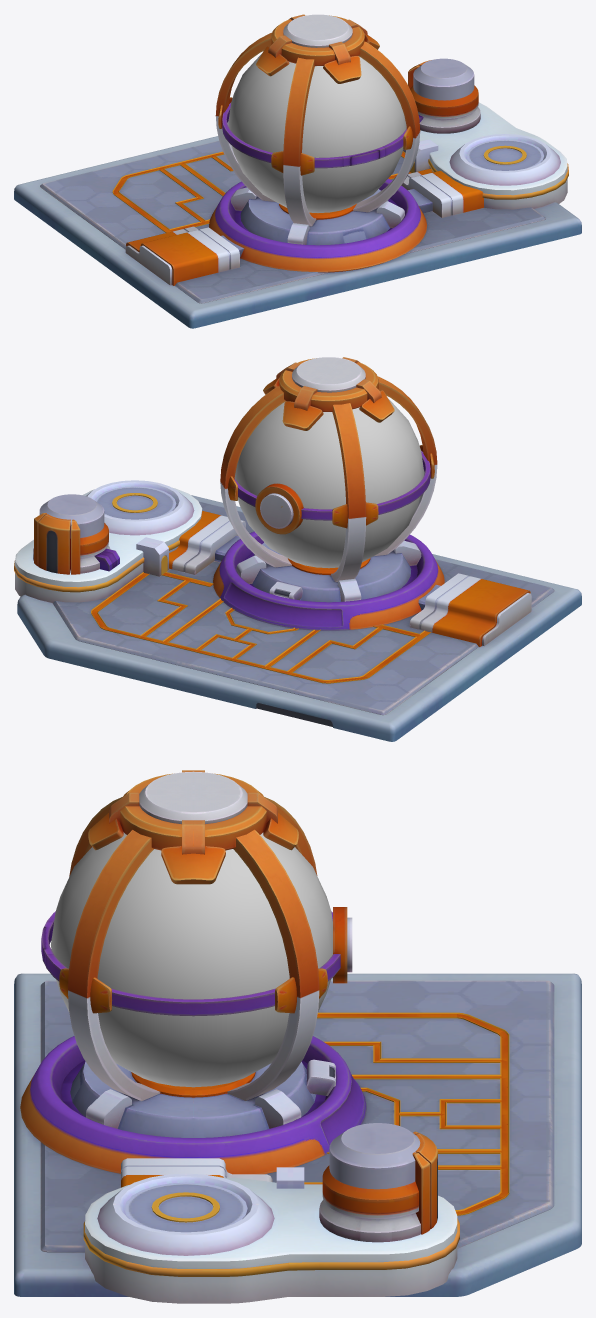
File: pref_sm_choujiangjiemian_mx01_lv3.fbx
The picture shows the model from 3 angles, top to bottom: view 1: azimuth 30°, elevation 25°; view 2: azimuth 150°, elevation 25°; view 3: azimuth 270°, elevation 25°; orthographic projection. The views are drawn at different scales.
Visible parts, largest first — view 1: sm_choujiangjiemian_mx01_lv3, sm_choujiangjiemian_mx01b_lv3, sm_choujiangjiemian_mx04_lv3, sm_choujiangjiemian_mx01c_lv3; view 2: sm_choujiangjiemian_mx01_lv3, sm_choujiangjiemian_mx04_lv3, sm_choujiangjiemian_mx01b_lv3, sm_choujiangjiemian_mx01c_lv3; view 3: sm_choujiangjiemian_mx01_lv3, sm_choujiangjiemian_mx04_lv3, sm_choujiangjiemian_mx01b_lv3, sm_choujiangjiemian_mx01c_lv3.
Part boxes in pixels (bbox=[...]): sm_choujiangjiemian_mx01_lv3: bbox=[14, 14, 581, 328]; sm_choujiangjiemian_mx01b_lv3: bbox=[228, 54, 406, 212]; sm_choujiangjiemian_mx04_lv3: bbox=[40, 140, 545, 303]; sm_choujiangjiemian_mx01c_lv3: bbox=[112, 151, 411, 232]; sm_choujiangjiemian_mx01_lv3: bbox=[14, 357, 581, 741]; sm_choujiangjiemian_mx04_lv3: bbox=[52, 501, 554, 715]; sm_choujiangjiemian_mx01b_lv3: bbox=[234, 399, 424, 568]; sm_choujiangjiemian_mx01c_lv3: bbox=[91, 572, 431, 683]; sm_choujiangjiemian_mx01_lv3: bbox=[14, 770, 581, 1303]; sm_choujiangjiemian_mx04_lv3: bbox=[40, 980, 554, 1252]; sm_choujiangjiemian_mx01b_lv3: bbox=[51, 832, 332, 1087]; sm_choujiangjiemian_mx01c_lv3: bbox=[304, 1012, 509, 1215].
Size of the model in its own units: 5.25 by 2.56 by 3.85.
